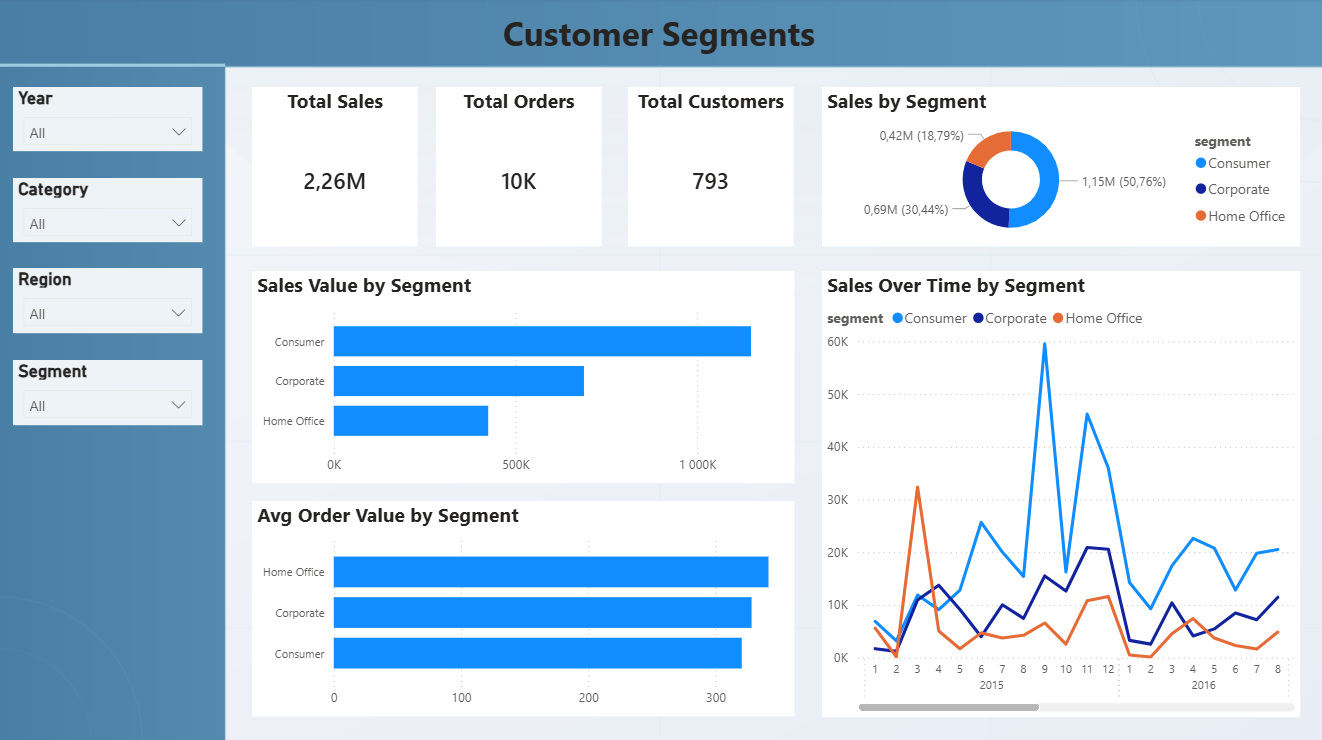

This screenshot's page, from the dashboard's own definition file:
{"tool":"powerbi","page":{"name":"Customer Segments","canvas":[1280,720],"ordinal":2},"visuals":[{"type":"cardVisual","title":"Total Sales","fields":{"Data":["Sum(vw_segments.total_sales)"]},"box":[246.1,85.6,160.5,153.7],"z":0},{"type":"cardVisual","title":"Total Orders","fields":{"Data":["orders.Orders Count"]},"box":[424.1,85.6,160.5,153.7],"z":1000},{"type":"cardVisual","title":"Total Customers","fields":{"Data":["vw_segments.Seg Unique Customers"]},"box":[609.8,85.6,160.5,153.7],"z":2000},{"type":"clusteredBarChart","title":"Sales Value by Segment","fields":{"Category":["vw_segments.segment"],"Y":["Sum(vw_segments.total_sales)"]},"box":[246.1,263.6,524.3,205.2],"z":3000},{"type":"donutChart","title":"Sales by Segment","fields":{"Category":["vw_segments.segment"],"Y":["Sum(vw_segments.total_sales)"]},"box":[796.6,85.6,462,153.7],"z":4000},{"type":"slicer","title":"Region","fields":{"Values":["dim_region.region"]},"box":[15.5,261.3,182.6,62.8],"z":5000},{"type":"slicer","title":"Category","fields":{"Values":["dim_category.category"]},"box":[15.6,173.4,182.9,62.2],"z":6000},{"type":"slicer","title":"Year","fields":{"Values":["dim_year.year"]},"box":[15.6,85.6,182.9,62.2],"z":7000},{"type":"textbox","box":[433.8,6.8,411.4,54.5],"z":8000},{"type":"clusteredBarChart","title":"Avg Order Value by Segment","fields":{"Category":["vw_segments.segment"],"Y":["vw_segments.Seg Avg Order Value"]},"box":[246.1,486.3,524.3,208.1],"z":9000},{"type":"lineChart","title":"Sales Over Time by Segment","fields":{"Category":["vw_segments.year","vw_segments.month"],"Y":["Sum(vw_segments.total_sales)"],"Series":["vw_segments.segment"]},"box":[797,263.7,461.8,430.9],"z":10000},{"type":"slicer","title":"Segment","fields":{"Values":["dim_segment.segment"]},"box":[15.5,349.7,182.6,62.8],"z":11000}]}

Visuals, with their boxes in screenshot pixels (x1, y1, x2, y2), scaled from the page's 1280x720 canvas onto the 1322x740 screenshot:
"Total Sales" cardVisual: 254,88,420,246
"Total Orders" cardVisual: 438,88,604,246
"Total Customers" cardVisual: 630,88,796,246
"Sales Value by Segment" clusteredBarChart: 254,271,796,482
"Sales by Segment" donutChart: 823,88,1300,246
"Region" slicer: 16,269,205,333
"Category" slicer: 16,178,205,242
"Year" slicer: 16,88,205,152
textbox: 448,7,873,63
"Avg Order Value by Segment" clusteredBarChart: 254,500,796,714
"Sales Over Time by Segment" lineChart: 823,271,1300,714
"Segment" slicer: 16,359,205,424
